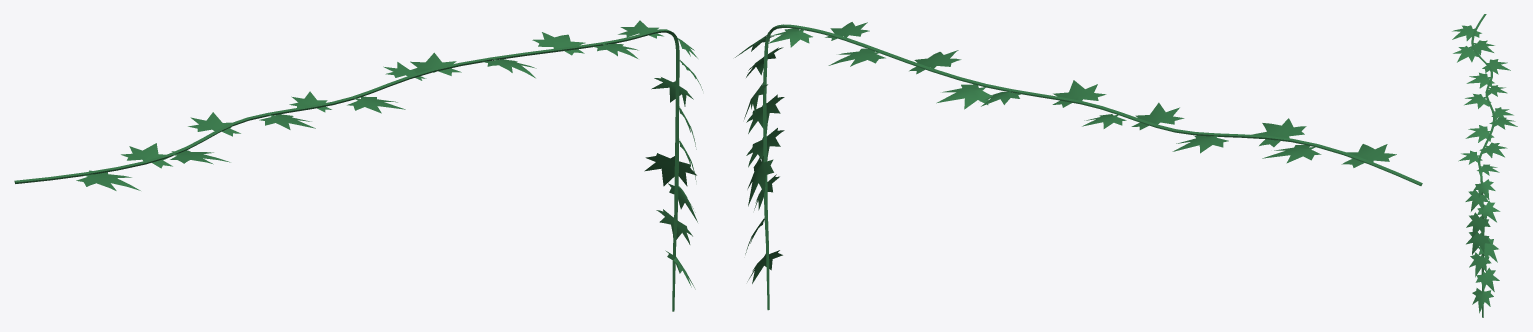
Rendered from vine_B_alangium.fbx.
3 renders of one model, left to right at view 1: azimuth 30°, elevation 25°; view 2: azimuth 150°, elevation 25°; view 3: azimuth 270°, elevation 25°, orthographic. The views are drawn at different scales.
Visible parts, largest first — view 1: vine_B_scanden_root, vine_B_alangium_leaf_A, vine_B_alangium_leaf_B34, vine_B_alangium_leaf_B32, vine_B_alangium_leaf_A32, vine_B_alangium_leaf_A30, vine_B_alangium_leaf_A26; view 2: vine_B_scanden_root, vine_B_alangium_leaf_A26, vine_B_alangium_leaf_B33, vine_B_alangium_leaf_B34, vine_B_alangium_leaf_A27, vine_B_alangium_leaf_A29, vine_B_alangium_leaf_A, vine_B_alangium_leaf_B30, vine_B_alangium_leaf_A32, vine_B_alangium_leaf_A30; view 3: vine_B_scanden_root, vine_B_alangium_leaf_B27, vine_B_alangium_leaf_B28, vine_B_alangium_leaf_B29, vine_B_alangium_leaf_A24, vine_B_alangium_leaf_A23, vine_B_alangium_leaf_B30, vine_B_alangium_leaf_A21, vine_B_alangium_leaf_A, vine_B_alangium_leaf_B, vine_B_alangium_leaf_B34, vine_B_alangium_leaf_A22 (+11 smaller).
Boxes of the visible parts, bbox=[...] form: vine_B_scanden_root: bbox=[14, 29, 679, 311]; vine_B_alangium_leaf_A: bbox=[644, 153, 696, 186]; vine_B_alangium_leaf_B34: bbox=[76, 170, 140, 190]; vine_B_alangium_leaf_B32: bbox=[532, 32, 585, 55]; vine_B_alangium_leaf_A32: bbox=[121, 143, 172, 168]; vine_B_alangium_leaf_A30: bbox=[188, 112, 240, 136]; vine_B_alangium_leaf_A26: bbox=[410, 52, 461, 75]; vine_B_scanden_root: bbox=[763, 24, 1422, 310]; vine_B_alangium_leaf_A26: bbox=[936, 84, 992, 109]; vine_B_alangium_leaf_B33: bbox=[1251, 118, 1306, 147]; vine_B_alangium_leaf_B34: bbox=[1341, 144, 1396, 167]; vine_B_alangium_leaf_A27: bbox=[1052, 80, 1106, 107]; vine_B_alangium_leaf_A29: bbox=[1131, 102, 1184, 129]; vine_B_alangium_leaf_A: bbox=[747, 156, 773, 206]; vine_B_alangium_leaf_B30: bbox=[909, 50, 961, 74]; vine_B_alangium_leaf_A32: bbox=[1262, 145, 1321, 163]; vine_B_alangium_leaf_A30: bbox=[1172, 135, 1228, 153]; vine_B_scanden_root: bbox=[1471, 14, 1495, 317]; vine_B_alangium_leaf_B27: bbox=[1466, 212, 1490, 237]; vine_B_alangium_leaf_B28: bbox=[1466, 232, 1490, 254]; vine_B_alangium_leaf_B29: bbox=[1475, 267, 1499, 291]; vine_B_alangium_leaf_A24: bbox=[1472, 288, 1493, 313]; vine_B_alangium_leaf_A23: bbox=[1469, 252, 1491, 277]; vine_B_alangium_leaf_B30: bbox=[1465, 125, 1494, 142]; vine_B_alangium_leaf_A21: bbox=[1477, 201, 1500, 222]; vine_B_alangium_leaf_A: bbox=[1478, 237, 1498, 262]; vine_B_alangium_leaf_B: bbox=[1465, 190, 1488, 211]; vine_B_alangium_leaf_B34: bbox=[1452, 25, 1481, 40]; vine_B_alangium_leaf_A22: bbox=[1473, 179, 1495, 199].
Size of the model in its own units: 397 by 163 by 67.63.
